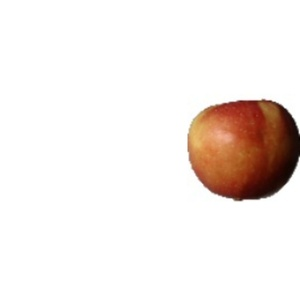maçã braeburn: (187, 95, 298, 204)
